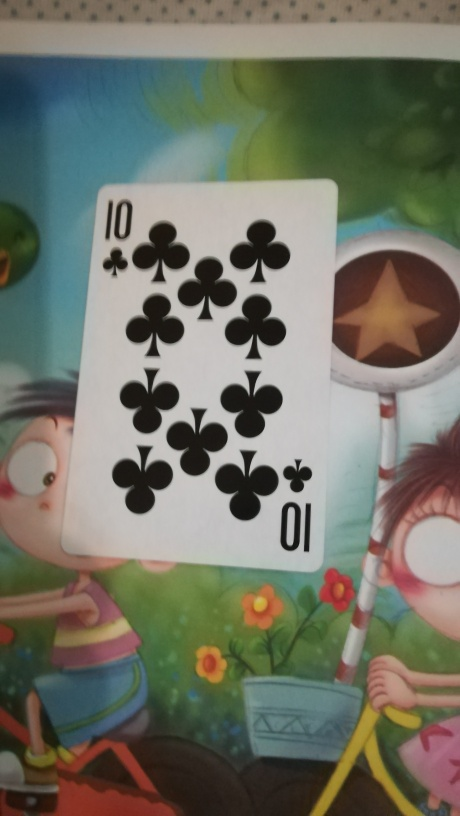mh 10: (59, 178, 338, 575)
